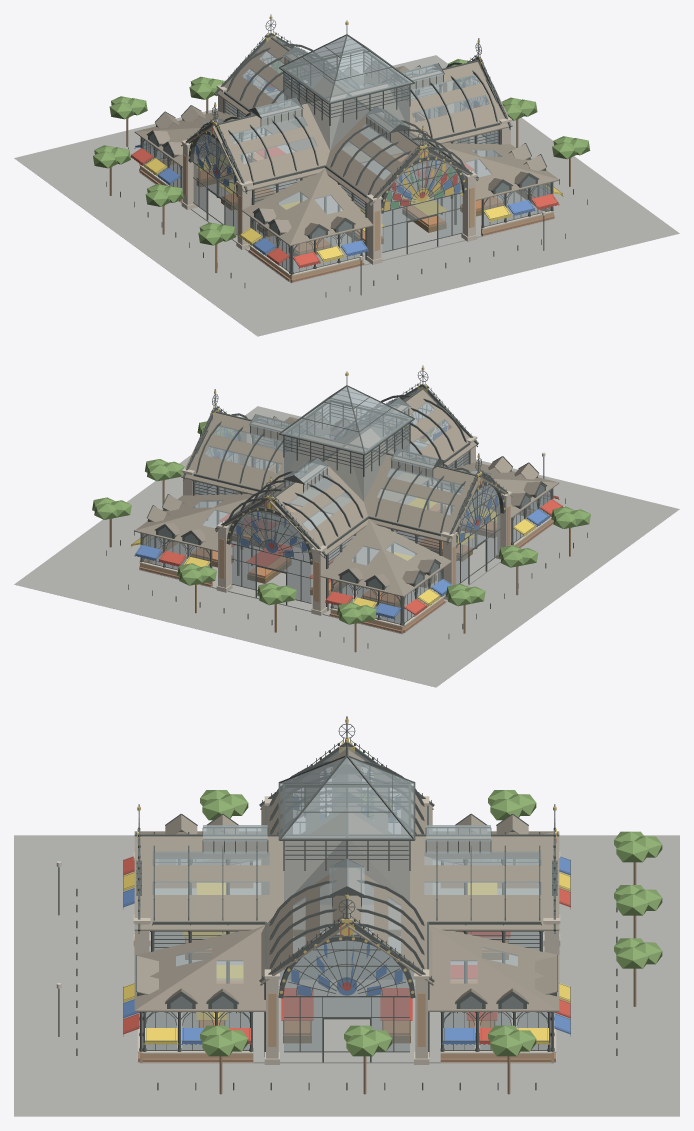
The model's file is clay-modernista-market-hall-clay-v002.glb.
3 views of the same model, one above another, from view 1: azimuth 30°, elevation 25°; view 2: azimuth 150°, elevation 25°; view 3: azimuth 270°, elevation 25° (orthographic). The views are drawn at different scales.
Visible parts, largest first — view 1: CLAY_FOUNDATION, CLAY_ROOF, CLAY_GLASS, CLAY_HARDWARE, CLAY_PLANTING, CLAY_STONE, CLAY_AWNING_YELLOW, CLAY_TILE, CLAY_PRODUCE, CLAY_TIMBER, CLAY_AWNING_RED, CLAY_AWNING_BLUE (+3 smaller); view 2: CLAY_FOUNDATION, CLAY_ROOF, CLAY_GLASS, CLAY_HARDWARE, CLAY_PLANTING, CLAY_STONE, CLAY_TIMBER, CLAY_PRODUCE, CLAY_AWNING_RED, CLAY_TILE, CLAY_AWNING_YELLOW, CLAY_STAIN_BLUE (+2 smaller); view 3: CLAY_FOUNDATION, CLAY_ROOF, CLAY_GLASS, CLAY_HARDWARE, CLAY_PLANTING, CLAY_STONE, CLAY_AWNING_RED, CLAY_AWNING_YELLOW, CLAY_TILE, CLAY_TIMBER, CLAY_AWNING_BLUE, CLAY_PRODUCE (+2 smaller).
Boxes of the visible parts, left/top/right/bottom form: CLAY_FOUNDATION: left=14, top=55, right=679, bottom=336; CLAY_ROOF: left=134, top=38, right=559, bottom=246; CLAY_GLASS: left=143, top=35, right=551, bottom=272; CLAY_HARDWARE: left=106, top=14, right=587, bottom=297; CLAY_PLANTING: left=93, top=59, right=590, bottom=245; CLAY_STONE: left=139, top=81, right=554, bottom=282; CLAY_AWNING_YELLOW: left=144, top=154, right=563, bottom=262; CLAY_TILE: left=140, top=113, right=553, bottom=282; CLAY_PRODUCE: left=196, top=152, right=502, bottom=253; CLAY_TIMBER: left=109, top=98, right=571, bottom=272; CLAY_AWNING_RED: left=130, top=146, right=559, bottom=268; CLAY_AWNING_BLUE: left=134, top=108, right=535, bottom=256; CLAY_FOUNDATION: left=14, top=406, right=679, bottom=687; CLAY_ROOF: left=134, top=389, right=559, bottom=597; CLAY_GLASS: left=142, top=386, right=550, bottom=623; CLAY_HARDWARE: left=106, top=365, right=587, bottom=648; CLAY_PLANTING: left=92, top=421, right=590, bottom=624; CLAY_STONE: left=139, top=432, right=553, bottom=633; CLAY_TIMBER: left=109, top=480, right=571, bottom=652; CLAY_PRODUCE: left=191, top=503, right=497, bottom=604; CLAY_AWNING_RED: left=158, top=459, right=562, bottom=616; CLAY_TILE: left=140, top=464, right=553, bottom=632; CLAY_AWNING_YELLOW: left=130, top=497, right=536, bottom=607; CLAY_STAIN_BLUE: left=205, top=409, right=497, bottom=556; CLAY_FOUNDATION: left=14, top=835, right=679, bottom=1116; CLAY_ROOF: left=134, top=749, right=559, bottom=1011; CLAY_GLASS: left=146, top=746, right=547, bottom=1051; CLAY_HARDWARE: left=58, top=716, right=617, bottom=1090; CLAY_PLANTING: left=200, top=790, right=662, bottom=1056; CLAY_STONE: left=133, top=796, right=560, bottom=1064; CLAY_AWNING_RED: left=123, top=856, right=570, bottom=1044; CLAY_AWNING_YELLOW: left=123, top=872, right=570, bottom=1044; CLAY_TILE: left=134, top=882, right=559, bottom=1062; CLAY_TIMBER: left=185, top=862, right=636, bottom=1094; CLAY_AWNING_BLUE: left=123, top=856, right=570, bottom=1044; CLAY_PRODUCE: left=186, top=938, right=507, bottom=1035.
Bounding box in the file's own units: 74 × 29.4 × 74.
